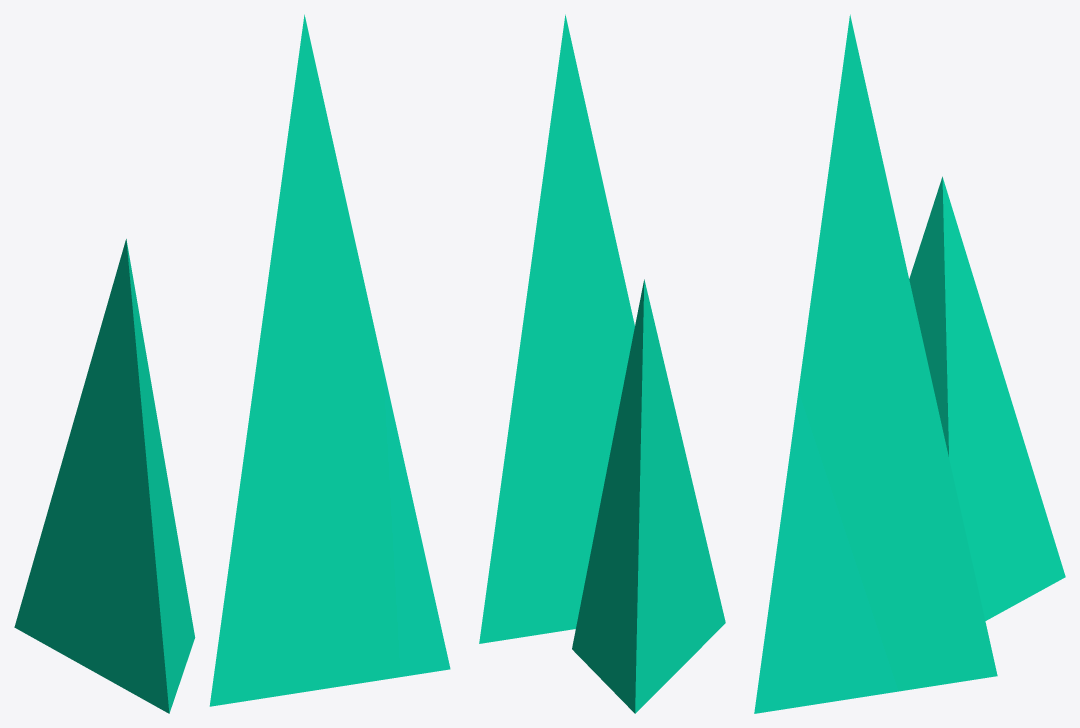
The model's file is Spike2.fbx.
3 views of the same model, side by side, from view 1: azimuth 30°, elevation 25°; view 2: azimuth 150°, elevation 25°; view 3: azimuth 270°, elevation 25° (orthographic). The views are drawn at different scales.
Visible parts, largest first — view 1: Spike2; view 2: Spike2; view 3: Spike2.
Boxes of the visible parts, bbox=[...] form: Spike2: bbox=[14, 14, 450, 713]; Spike2: bbox=[479, 14, 725, 713]; Spike2: bbox=[754, 14, 1065, 713].
Bounding box in the file's own units: 0.5992 × 1.31 × 0.5675.
